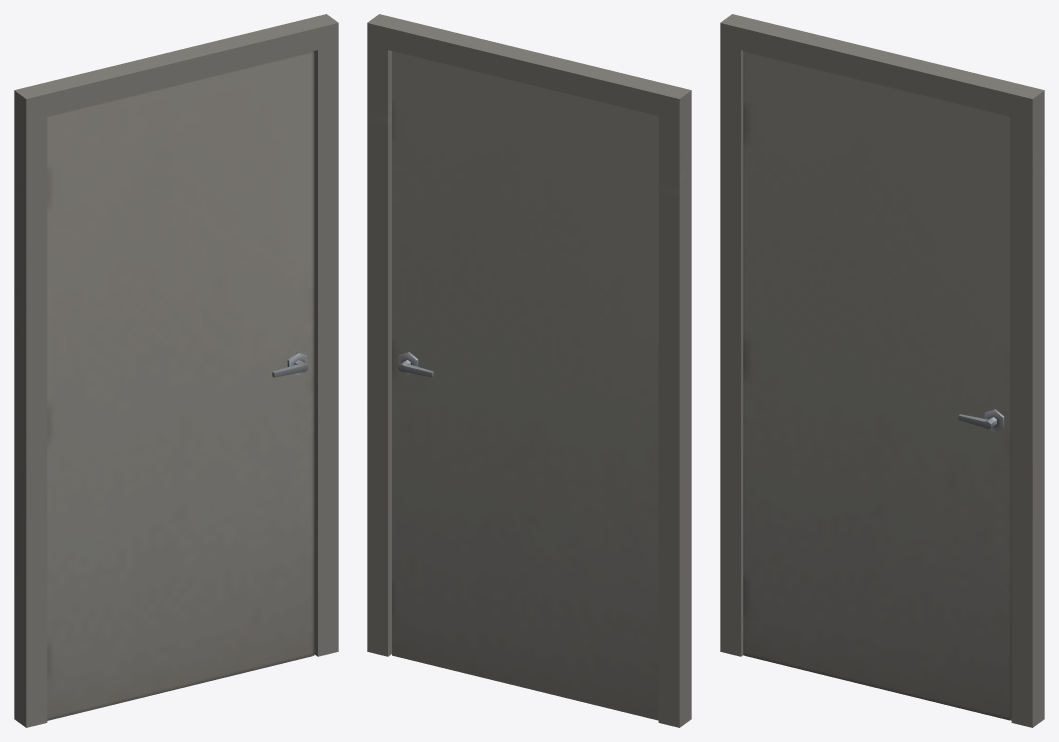
Rendered from Door.fbx.
3 views of the same model, side by side, from view 1: azimuth 30°, elevation 25°; view 2: azimuth 150°, elevation 25°; view 3: azimuth 330°, elevation 25° (orthographic).
Parts seen in each view (by area): view 1: Porta, Moldura; view 2: Porta, Moldura; view 3: Porta, Moldura, Maçaneta.
Boxes of the visible parts, bbox=[...] form: Porta: bbox=[47, 51, 314, 720]; Moldura: bbox=[14, 14, 338, 727]; Porta: bbox=[392, 51, 658, 720]; Moldura: bbox=[367, 14, 691, 727]; Porta: bbox=[743, 50, 1011, 720]; Moldura: bbox=[720, 14, 1044, 727]; Maçaneta: bbox=[958, 409, 1004, 431].
Bounding box in the file's own units: 108 × 207 × 13.5.
